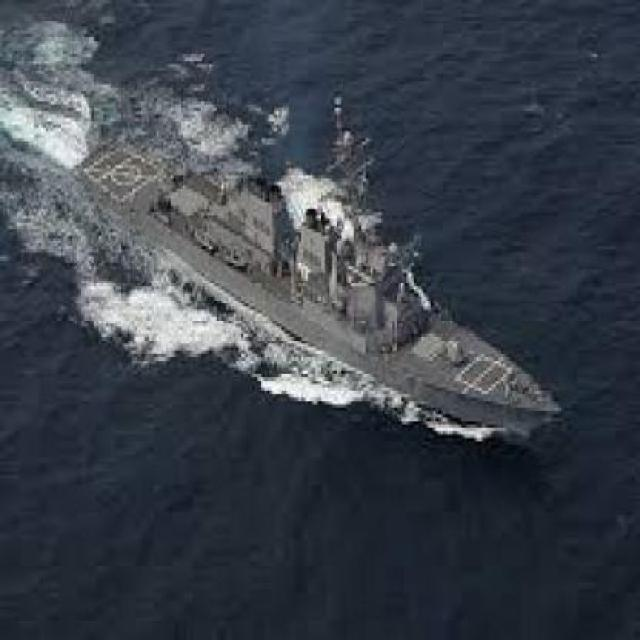warship2: (66, 85, 579, 489)
